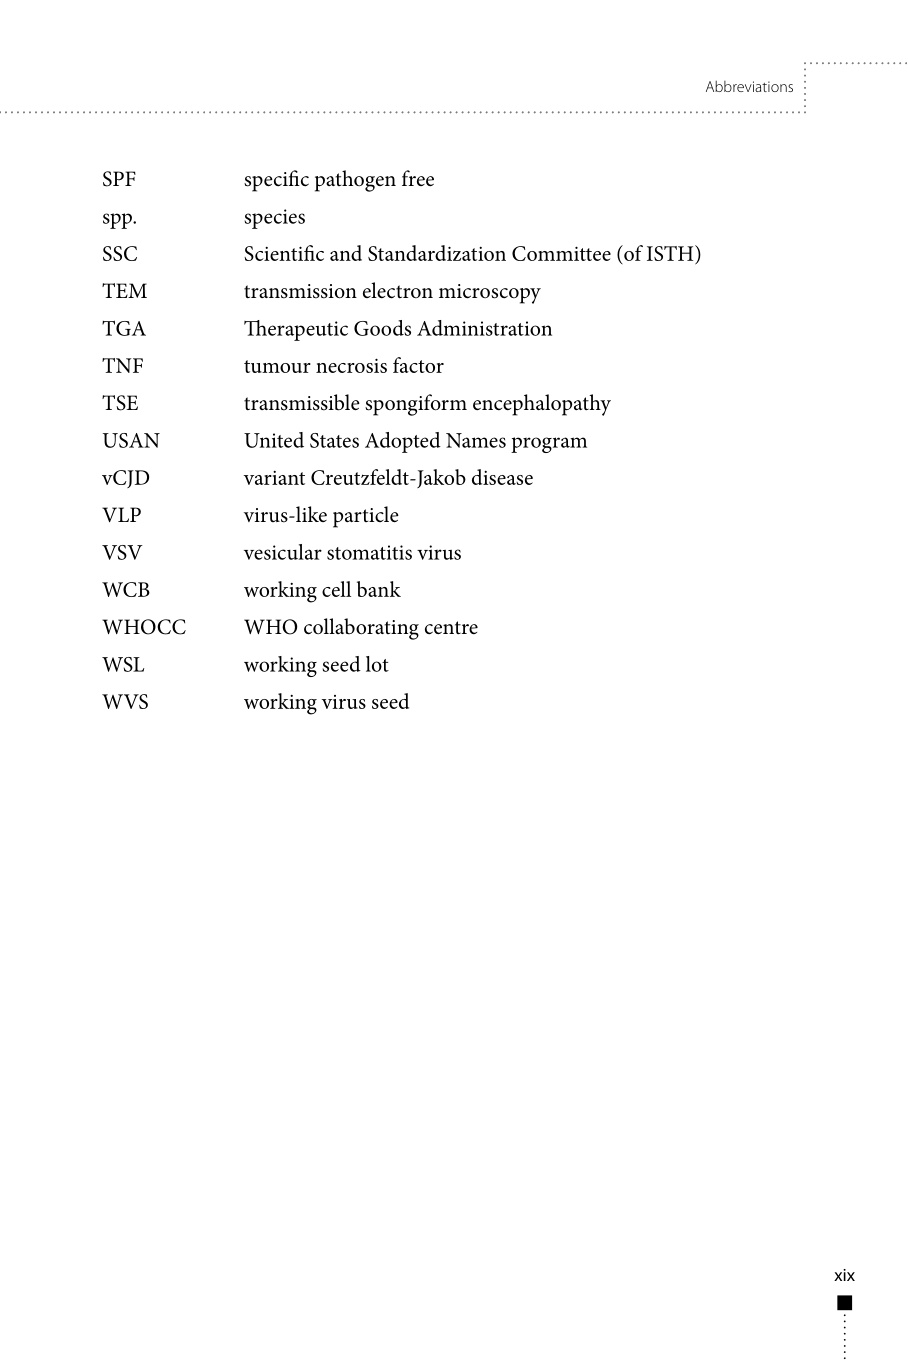nolines: (99, 164, 704, 716)
